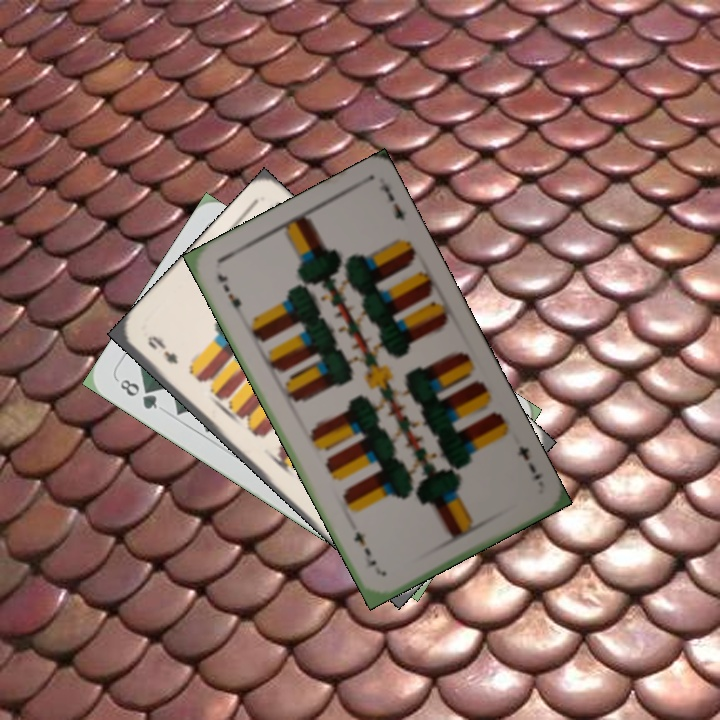E7: (213, 269, 247, 320), (513, 442, 546, 483)
E9: (143, 331, 181, 367)
G8: (115, 375, 161, 412)
